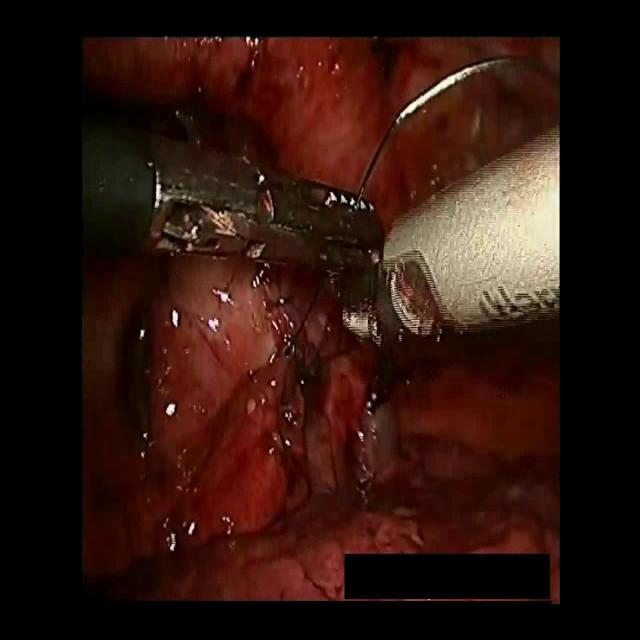surgical-area: (86, 260, 562, 602), (85, 37, 562, 228)
surgical-tool: (334, 121, 562, 367), (85, 113, 383, 270)
